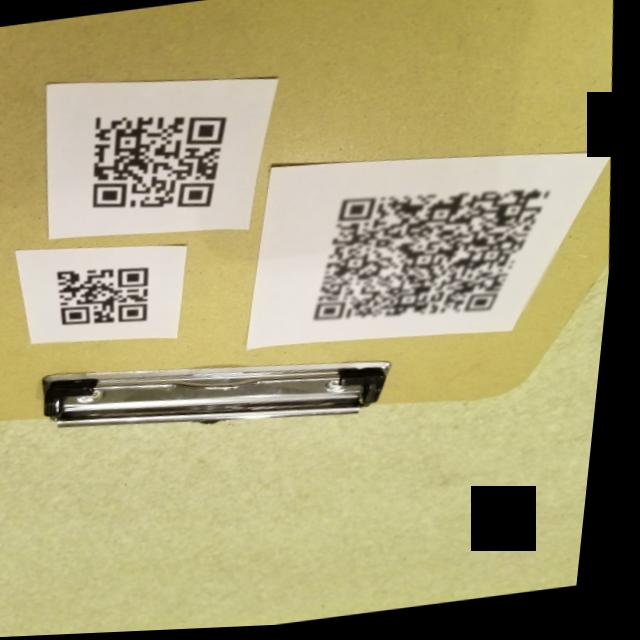QR_CODE: (296, 169, 577, 344), (72, 89, 250, 231), (40, 248, 173, 347)
